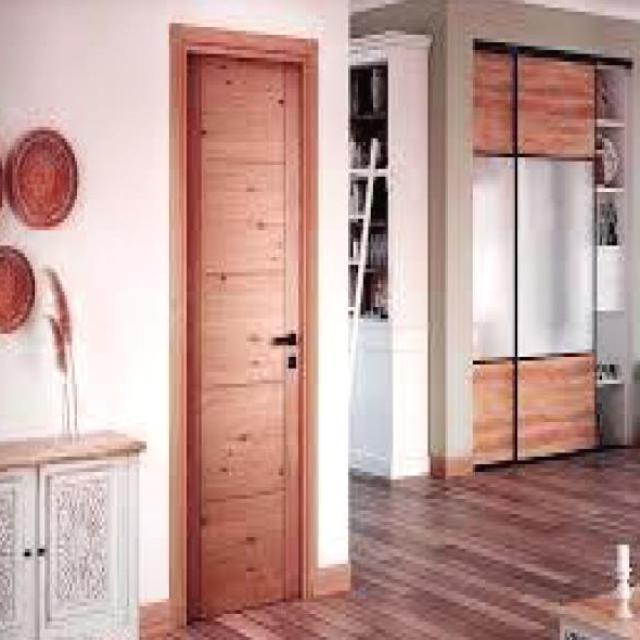door: (184, 43, 306, 621)
